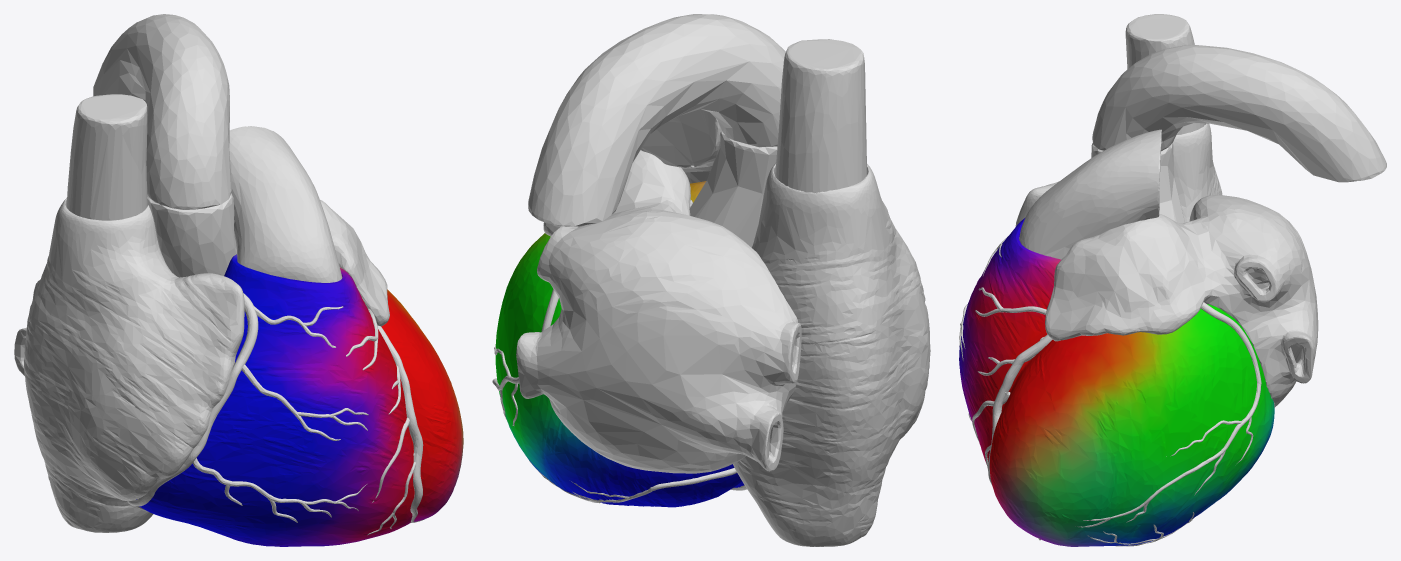
The model's file is heart.glb.
3 views of the same model, side by side, from view 1: azimuth 30°, elevation 25°; view 2: azimuth 150°, elevation 25°; view 3: azimuth 270°, elevation 25° (orthographic). The views are drawn at different scales.
Parts seen in each view (by area): view 1: Myocardium, RightAtrium, Aorta, PulmonaryTrunk, SVC, RCA, LeftAtrium, LAD; view 2: LeftAtrium, RightAtrium, Aorta, Myocardium, SVC, PulmonaryTrunk, RCA, LCX; view 3: Myocardium, LeftAtrium, Aorta, PulmonaryTrunk, RightAtrium, SVC, LCX, LAD, RCA.
Part boxes in pixels (left/top/right/bottom): Myocardium: left=136, top=254, right=463, bottom=546; RightAtrium: left=24, top=198, right=244, bottom=532; Aorta: left=93, top=14, right=236, bottom=277; PulmonaryTrunk: left=229, top=126, right=342, bottom=282; SVC: left=66, top=94, right=147, bottom=220; RCA: left=127, top=293, right=424, bottom=522; LeftAtrium: left=14, top=200, right=389, bottom=375; LAD: left=346, top=308, right=423, bottom=535; LeftAtrium: left=516, top=150, right=801, bottom=473; RightAtrium: left=733, top=162, right=930, bottom=546; Aorta: left=528, top=14, right=785, bottom=247; Myocardium: left=495, top=181, right=744, bottom=507; SVC: left=775, top=39, right=866, bottom=192; PulmonaryTrunk: left=641, top=109, right=721, bottom=183; RCA: left=529, top=460, right=746, bottom=503; LCX: left=492, top=288, right=558, bottom=425; Myocardium: left=959, top=218, right=1274, bottom=546; LeftAtrium: left=1045, top=195, right=1318, bottom=407; Aorta: left=1091, top=45, right=1386, bottom=223; PulmonaryTrunk: left=1019, top=129, right=1161, bottom=259; RightAtrium: left=1015, top=123, right=1222, bottom=226; SVC: left=1125, top=14, right=1205, bottom=134; LCX: left=1075, top=302, right=1261, bottom=527; LAD: left=972, top=287, right=1052, bottom=485; RCA: left=959, top=236, right=1194, bottom=546.
Bounding box in the file's own units: 2.42 × 3 × 2.66.
